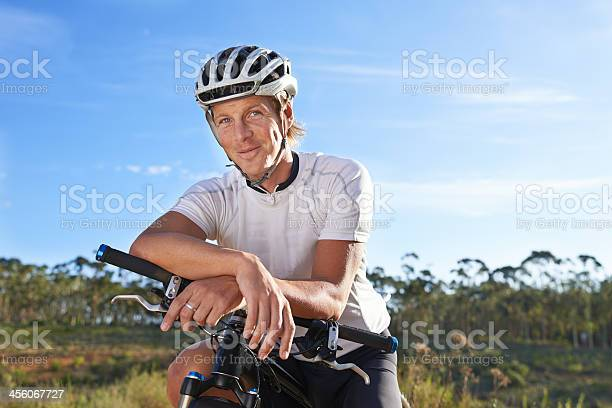helmet: (194, 45, 298, 187)
